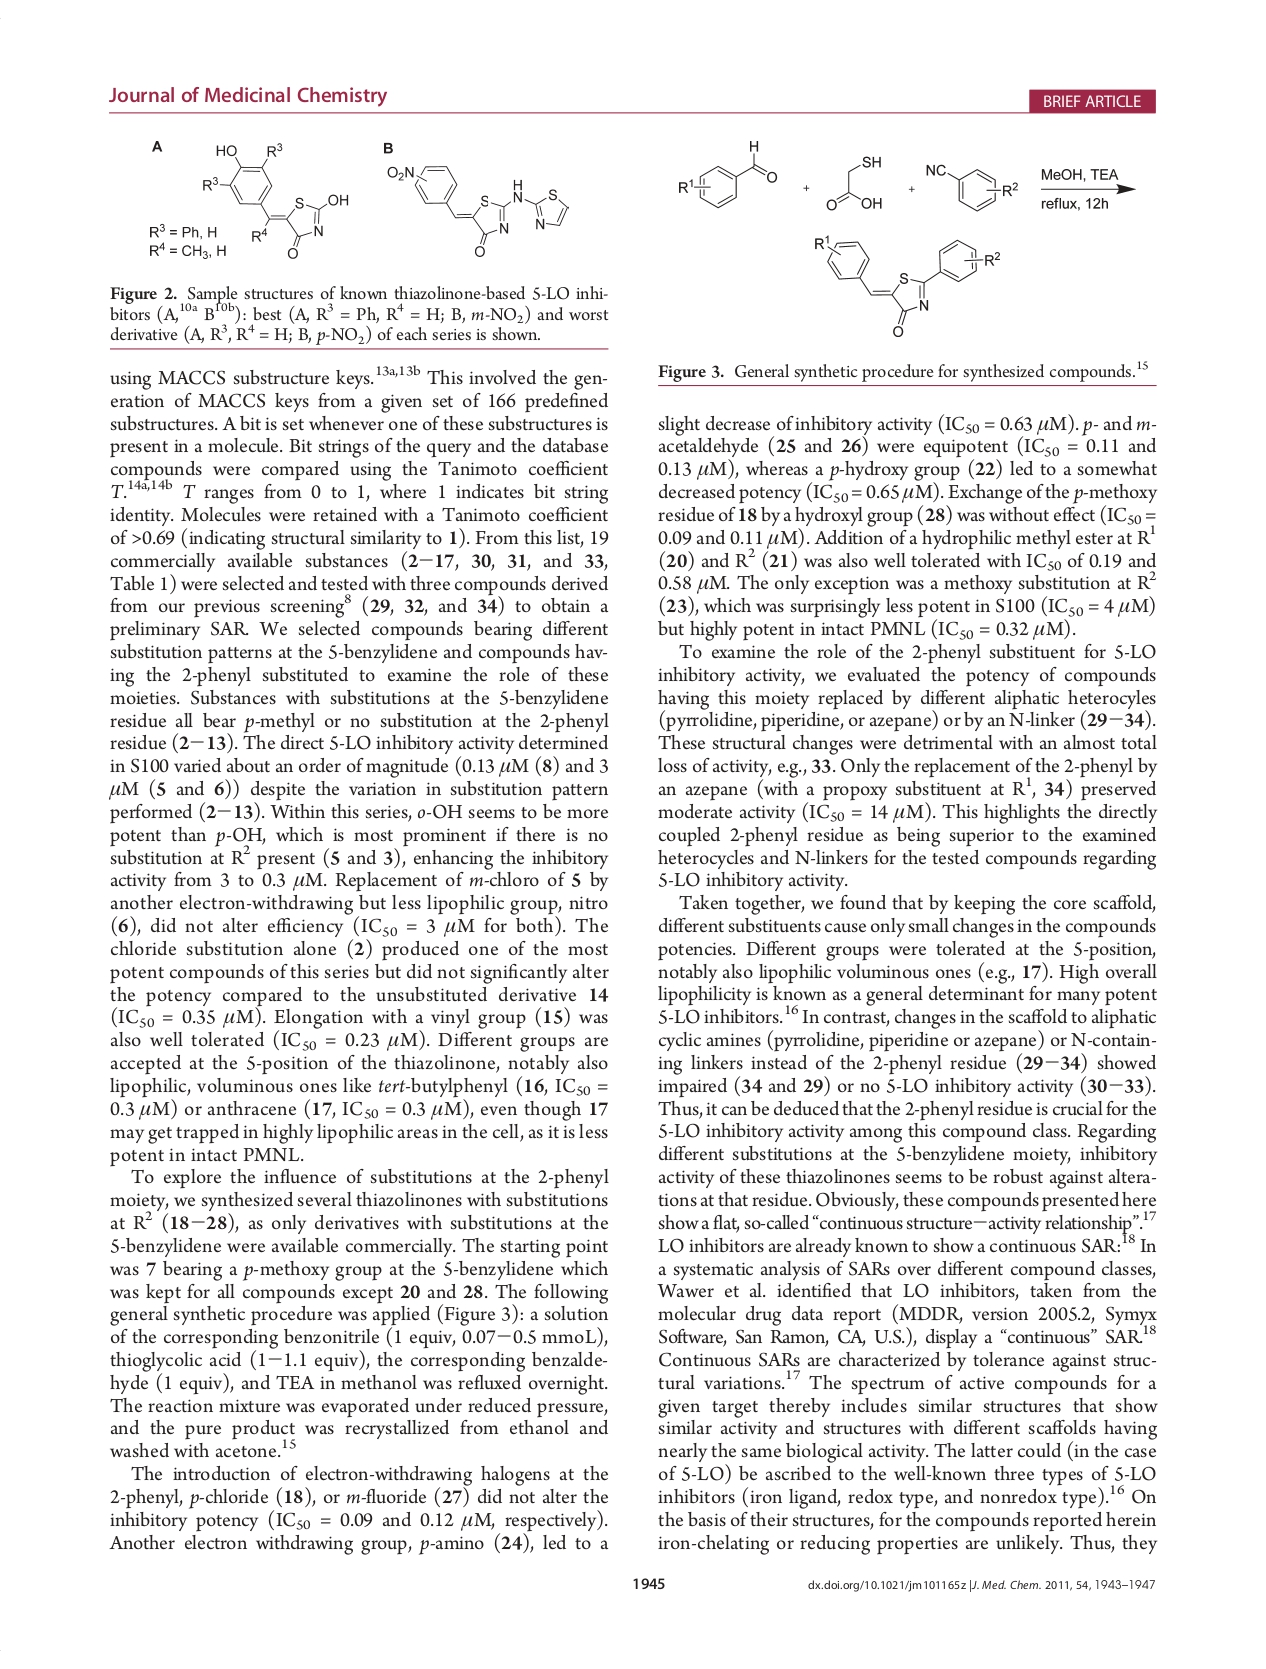exist_molecular: (809, 227, 1001, 338), (386, 157, 572, 265), (201, 138, 356, 261), (674, 136, 781, 207), (924, 152, 1023, 217), (817, 149, 888, 218)
